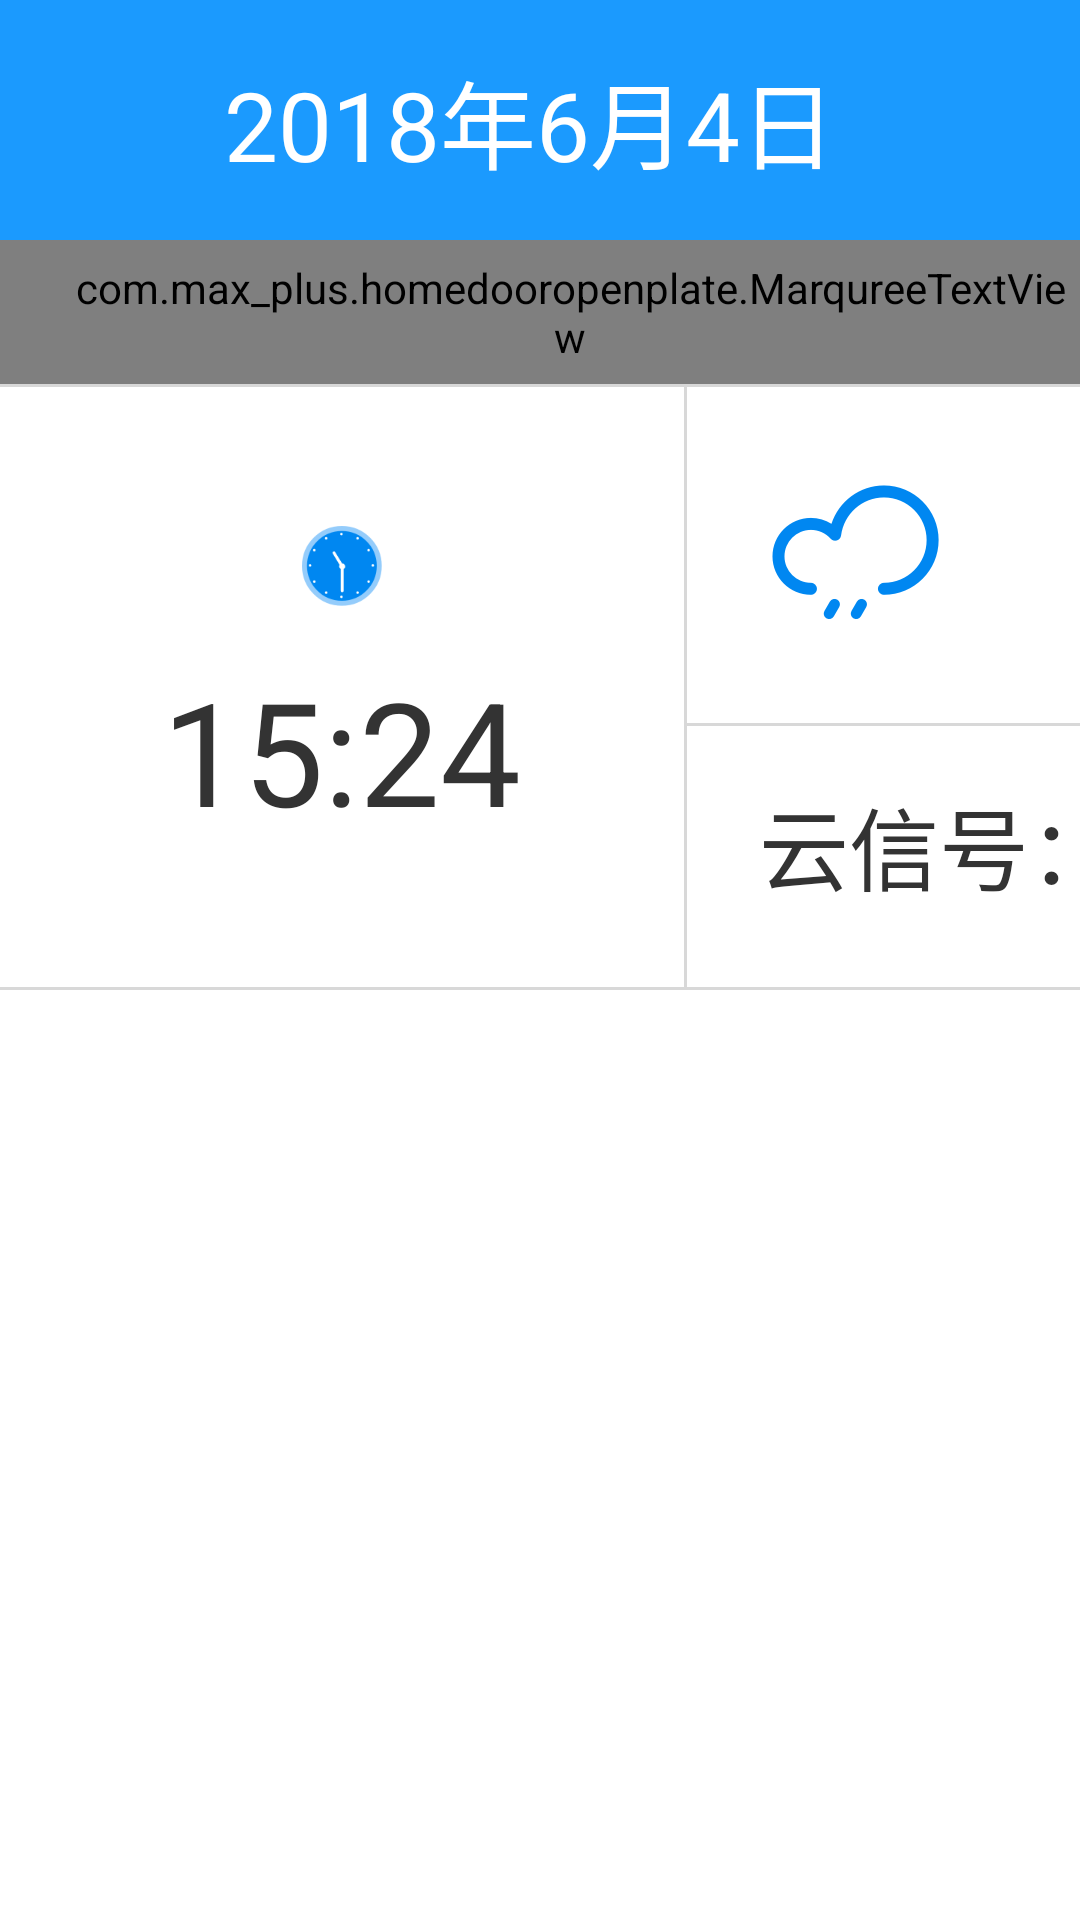

Where icons sit on this 1080px x 1920px app screen, as Rect(x1, y1, x2, y2):
time: Rect(302, 526, 382, 606)
